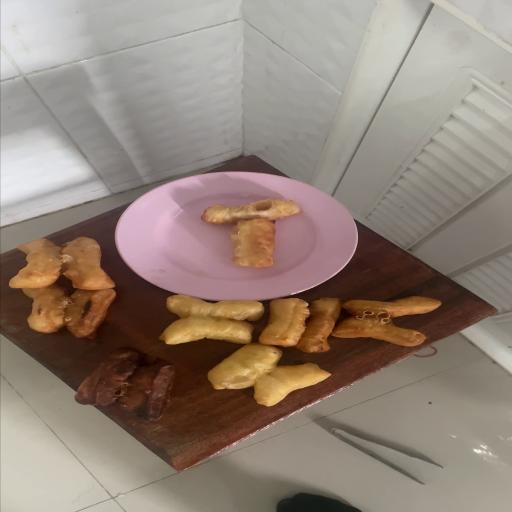street_burnt_defect: (75, 347, 174, 421), (194, 300, 264, 344), (62, 286, 116, 338), (201, 198, 300, 225), (297, 298, 342, 353), (235, 248, 274, 267), (267, 299, 292, 328), (411, 297, 440, 314)
